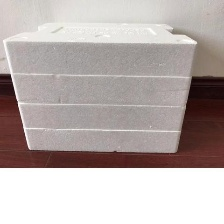foam_box: (1, 16, 203, 157)
